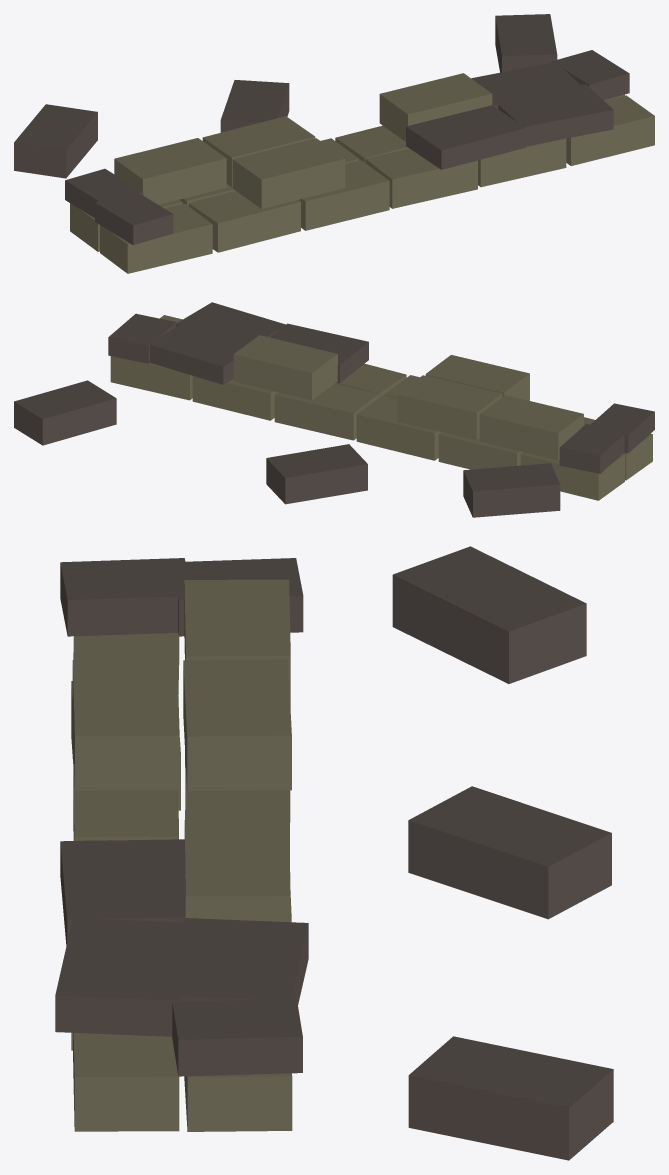
The model's file is SM_PretilTramo_v3_Tablon_e2_MuyDanado_LOD0.fbx.
3 views of the same model, one above another, from view 1: azimuth 30°, elevation 25°; view 2: azimuth 150°, elevation 25°; view 3: azimuth 270°, elevation 25° (orthographic). The views are drawn at different scales.
Parts seen in each view (by area): view 1: SM_pretil_azotea_v14_LOD0; view 2: SM_pretil_azotea_v14_LOD0; view 3: SM_pretil_azotea_v14_LOD0.
Part boxes in pixels (left/top/right/bottom): SM_pretil_azotea_v14_LOD0: left=14, top=14, right=654, bottom=273; SM_pretil_azotea_v14_LOD0: left=14, top=302, right=654, bottom=517; SM_pretil_azotea_v14_LOD0: left=55, top=546, right=613, bottom=1160.
Bounding box in the file's own units: 5.41 × 0.585 × 2.51.
